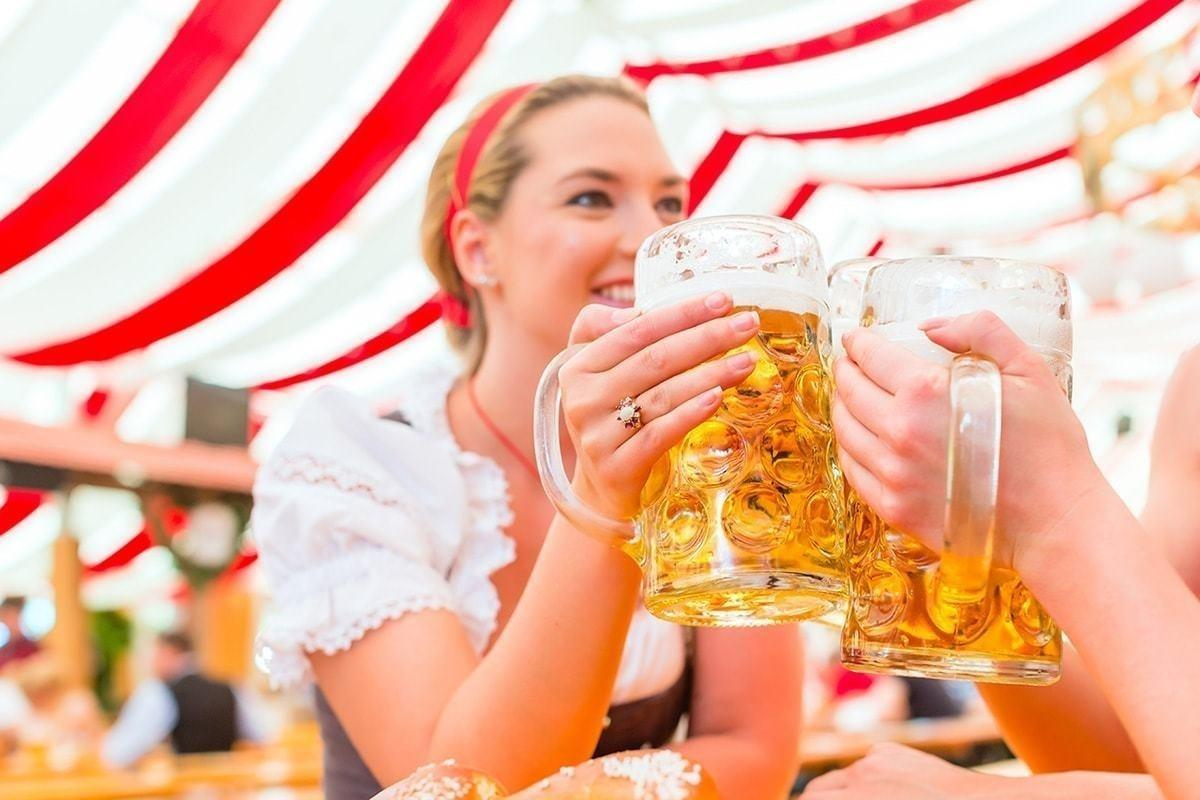glass-mug: (529, 206, 897, 637), (816, 246, 1085, 687)
